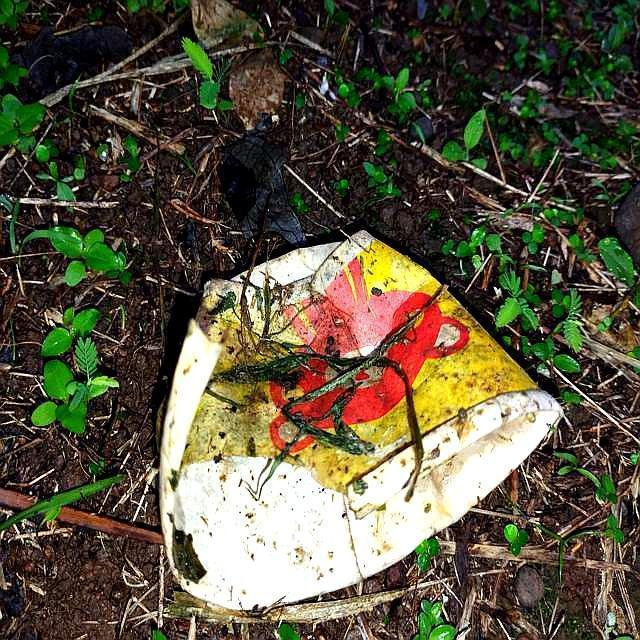Biodegradable: (159, 229, 563, 615)
